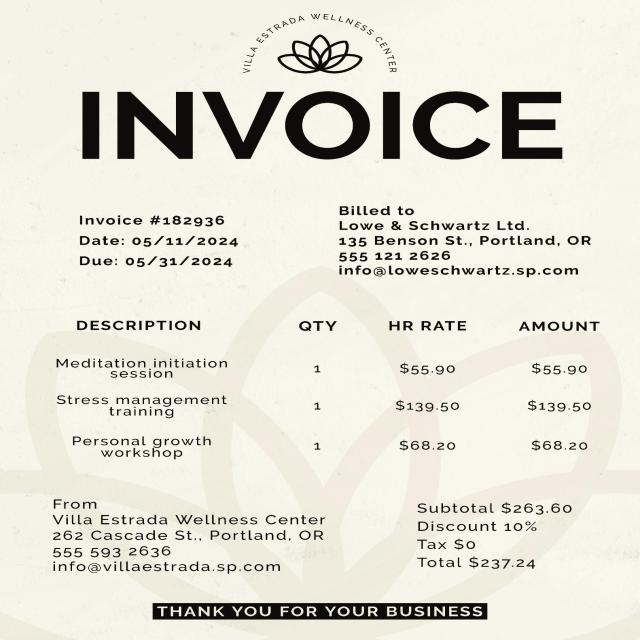paragraph: (38, 85, 581, 174), (35, 491, 344, 583), (328, 193, 606, 287), (189, 5, 455, 78), (397, 498, 591, 574), (62, 200, 249, 278), (145, 598, 501, 630)
table: (41, 304, 610, 472)
